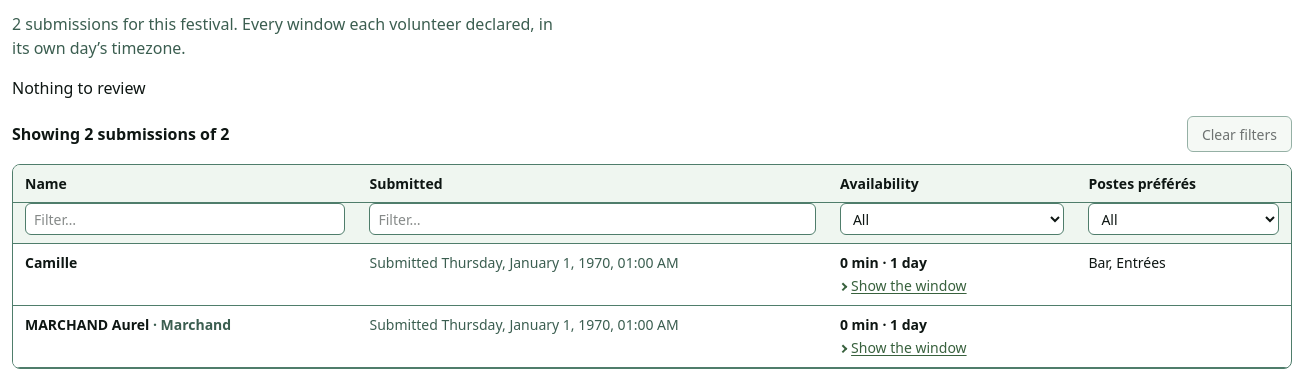
PlanSubmissionsView › filters on the day a volunteer offered time
Step 1. Select "On Dub & 2step" in the dropdown named "Filter the “Availability” column" → (952, 219), box [840,203,1064,235]
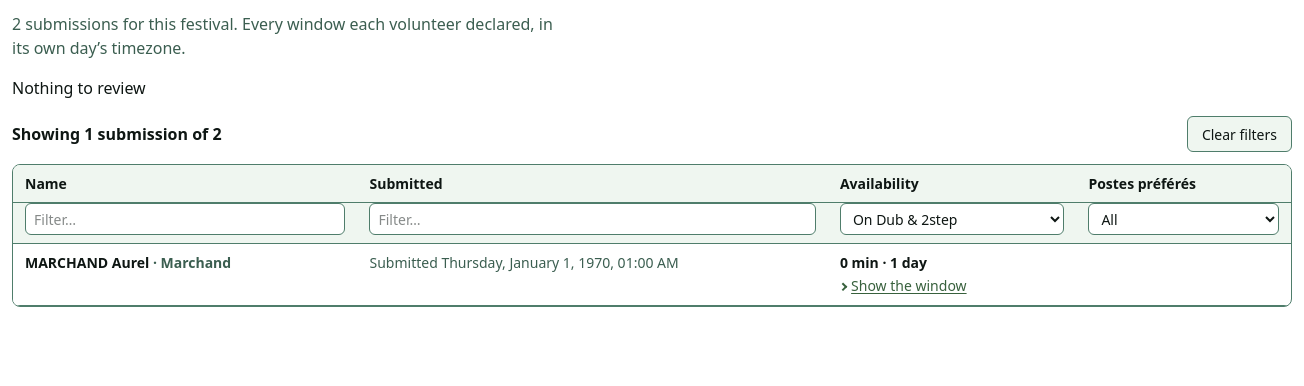
Result: the elements with class "evp-submission-name" read "MARCHAND Aurel · Marchand", in this order at [13,244,358,306]
